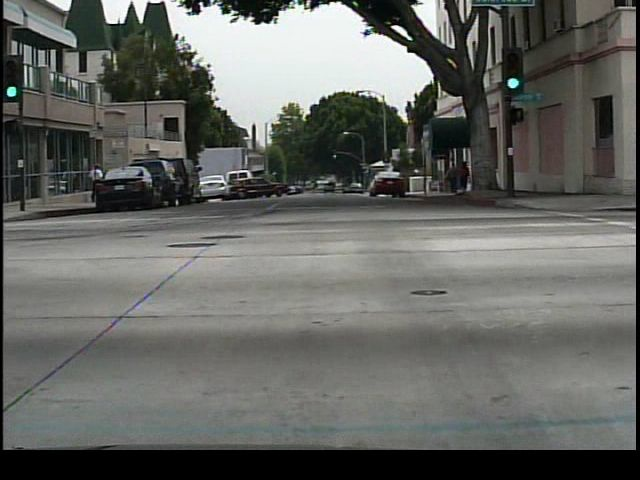person: (88, 157, 113, 205), (442, 163, 461, 196), (467, 155, 468, 196)
